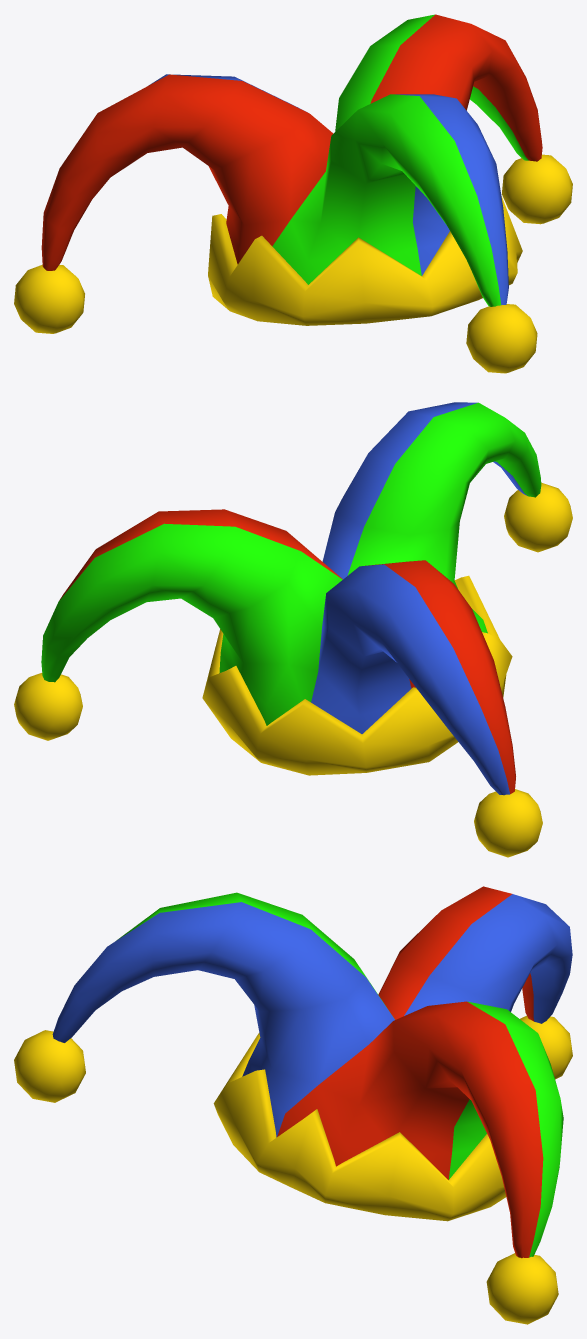
The model's file is ClownHat.fbx.
The picture shows the model from 3 angles, top to bottom: view 1: azimuth 30°, elevation 25°; view 2: azimuth 150°, elevation 25°; view 3: azimuth 270°, elevation 25°; orthographic projection. The views are drawn at different scales.
Visible parts, largest first — view 1: clown_hat.001; view 2: clown_hat.001; view 3: clown_hat.001.
Boxes of the visible parts, x1=… form: clown_hat.001: x1=14, y1=14, x2=572, y2=373; clown_hat.001: x1=14, y1=402, x2=572, y2=857; clown_hat.001: x1=14, y1=886, x2=572, y2=1324.
Size of the model in its own units: 1.02 by 0.5247 by 0.9092.
